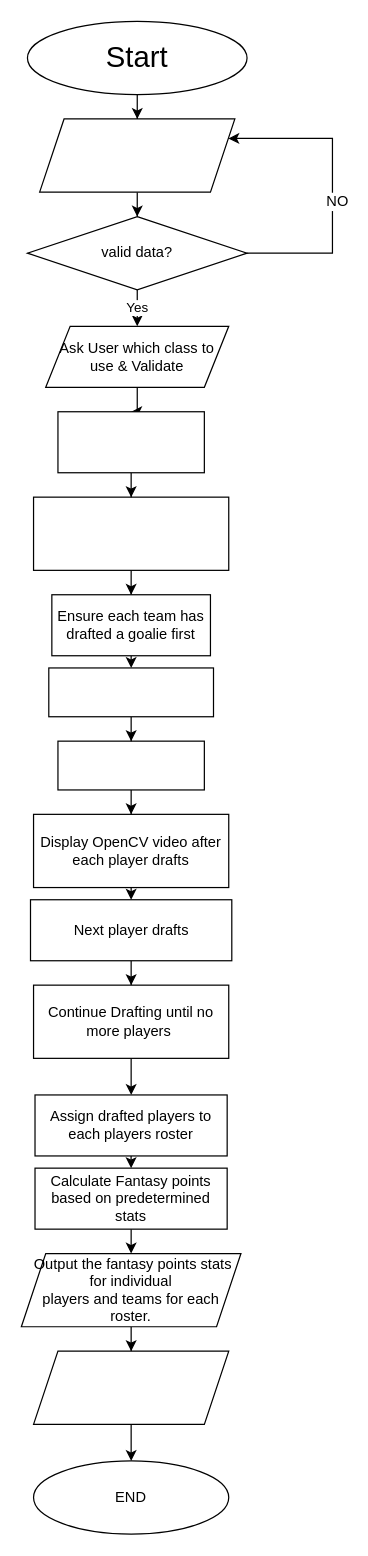
This 368x1556 diagram has some shape labels left out. The shapes that lost their labels are listed below. From the top down, each one's box as (x1, y1, x2, y2) in pixels, then its label:
(38, 118, 235, 192): Ask user to pick Heads or tails
(57, 411, 204, 473): Load in either HOF or current stars
(32, 496, 229, 570): Winner of coin toss drafts first
(48, 667, 214, 717): Display remaining available players
(57, 740, 204, 790): Allow user to draft & validate
(32, 1350, 229, 1424): Display winner
